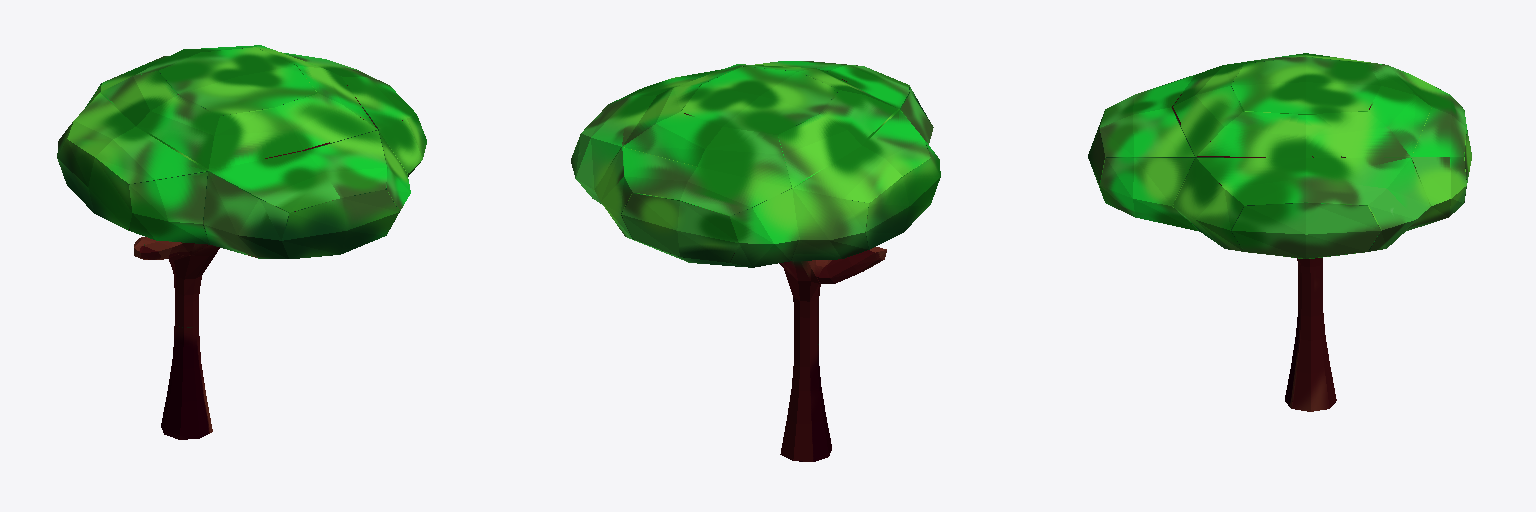
3 renders of one model, left to right at view 1: azimuth 30°, elevation 25°; view 2: azimuth 150°, elevation 25°; view 3: azimuth 270°, elevation 25°, orthographic.
Parts seen in each view (by area): view 1: Cube; view 2: Cube; view 3: Cube.
Part boxes in pixels (bbox=[...]): Cube: bbox=[57, 45, 426, 439]; Cube: bbox=[571, 61, 940, 461]; Cube: bbox=[1088, 53, 1471, 411].
Size of the model in its own units: 10.08 by 10.66 by 10.86.
Materials: 1 (1 with a texture image).